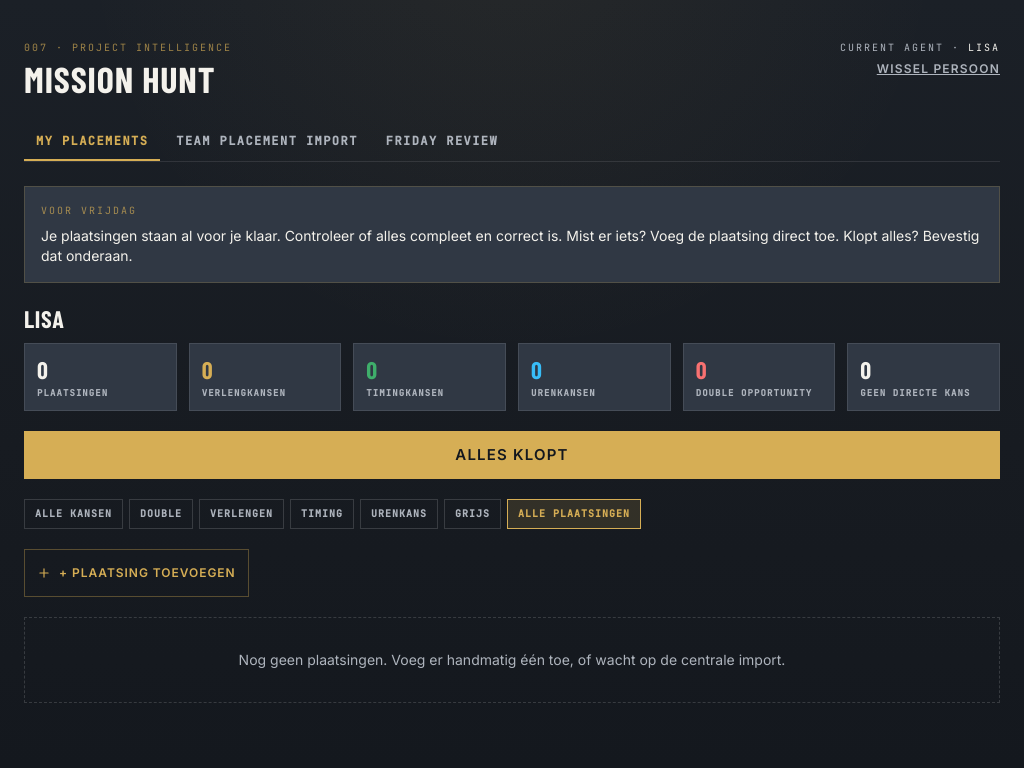
Test: MissionHuntPage — everyone may edit: no personal write restrictions › 9. Team Placement Import is reachable by a plain member, not just admin/manager/office_manager
The image size is (1024, 768).
Expected: the text "Lisa" next to "Current Agent ·" is shown, x1=968 y1=41 x2=1000 y2=54
Click the button "Team Placement Import": (267, 142) x1=164 y1=123 x2=370 y2=161
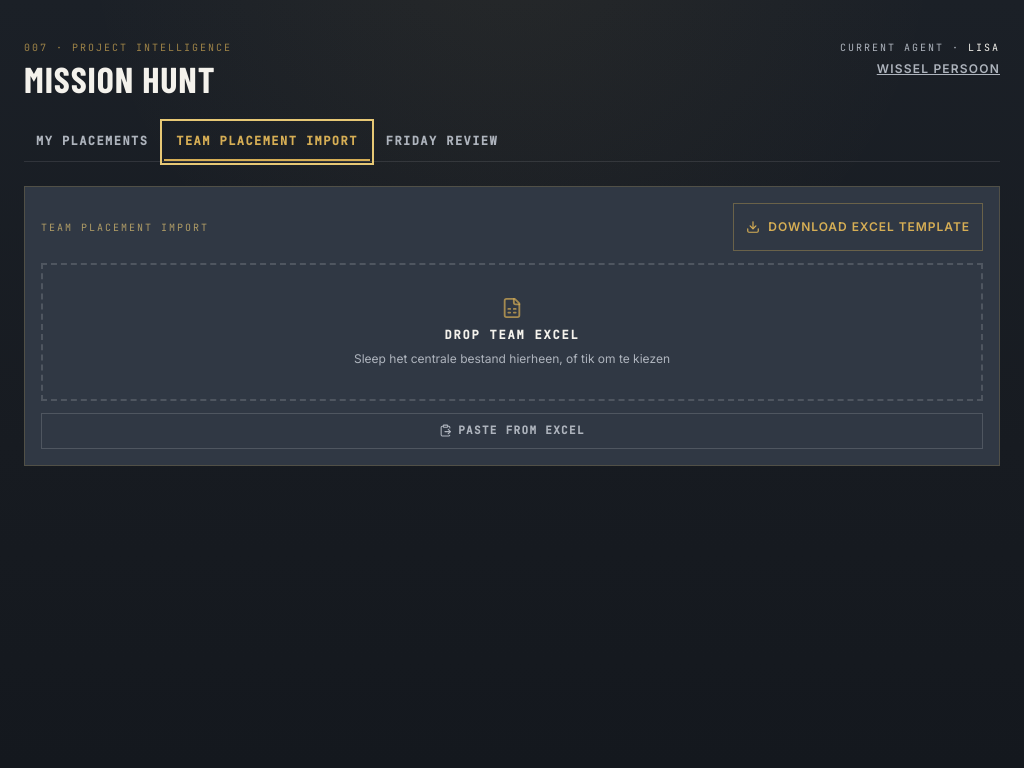
Expected: the button "Paste From Excel" is shown, x1=41 y1=413 x2=983 y2=449
